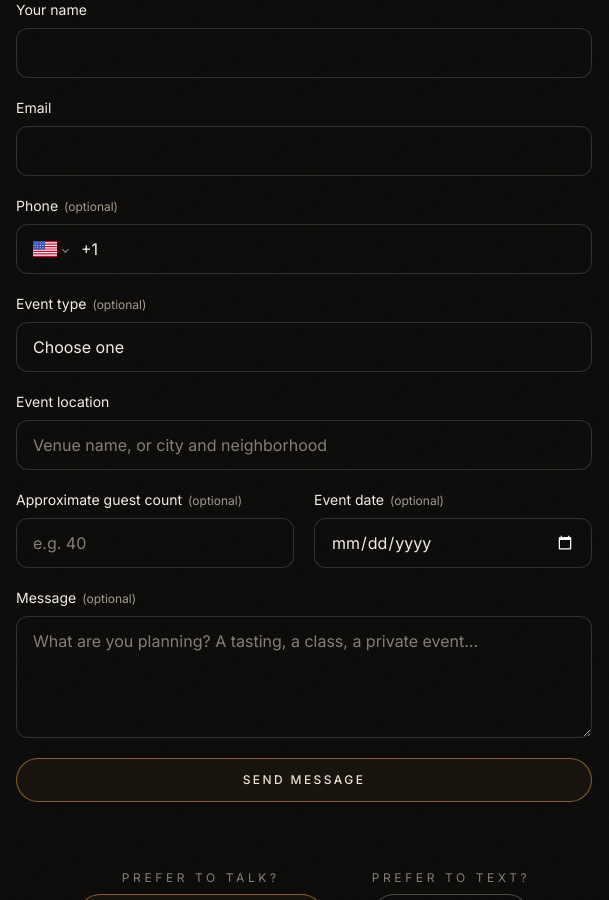
Test: shared blocks › ContactForm › shows validation errors on an empty submit and always offers Text Ethan
Click the button "Send message".
click(304, 780)  # box [16,758,592,802]
(page scrolled)
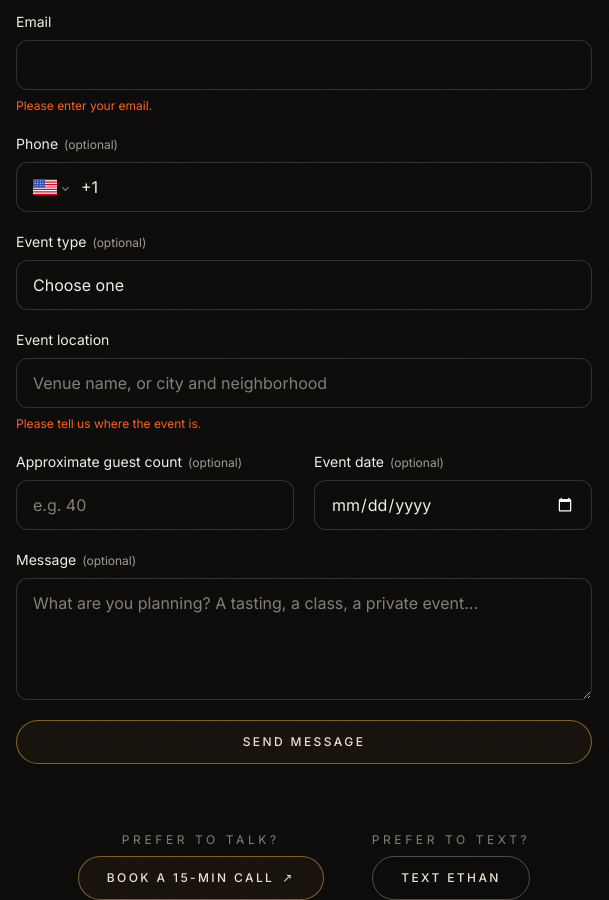
Expected: the link "Text Ethan" is shown, [372,856,530,899]
Now the text "Please enter your email." is shown, box [16,98,152,113]
